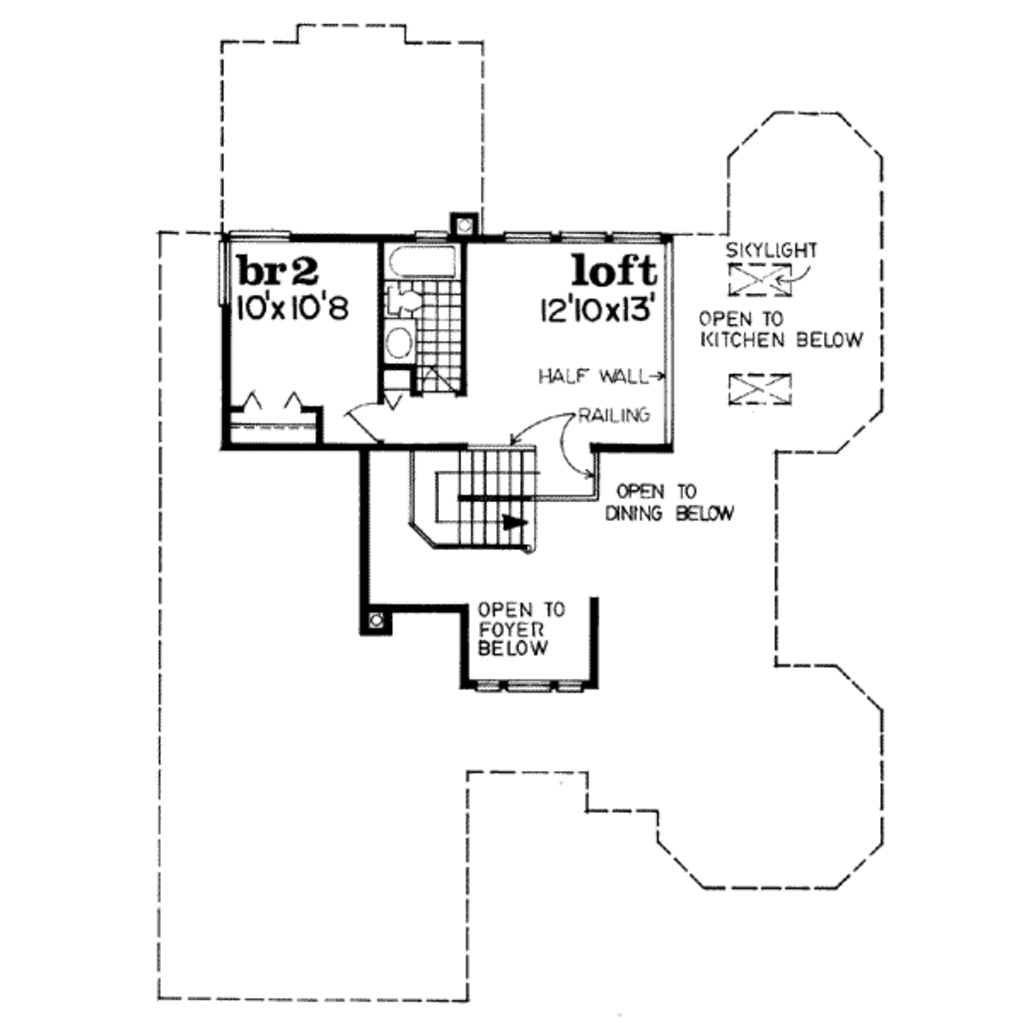door: (340, 398, 392, 451)
large_sink: (381, 281, 427, 314)
small_sink: (373, 309, 418, 370)
stairs: (400, 446, 540, 554)
tub: (384, 238, 464, 281)
window: (502, 228, 664, 257), (470, 676, 579, 693), (229, 230, 294, 249)
